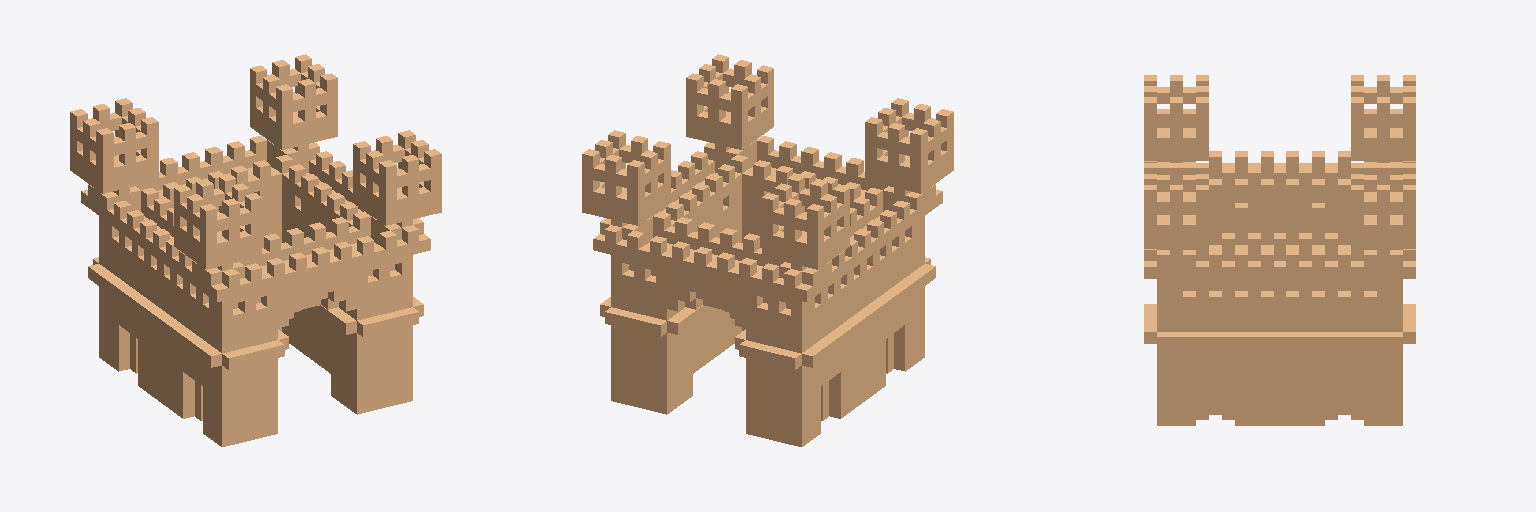
3 renders of one model, left to right at view 1: azimuth 30°, elevation 25°; view 2: azimuth 150°, elevation 25°; view 3: azimuth 270°, elevation 25°, orthographic.
Parts seen in each view (by area): view 1: object 1; view 2: object 1; view 3: object 1.
Boxes of the visible parts, box(x1,y1,x2,y2) form: object 1: box(70, 54, 441, 446); object 1: box(582, 54, 953, 446); object 1: box(1144, 75, 1415, 425).
Size of the model in its own units: 2.1 by 2.1 by 2.1.
1 materials, 1 textured.